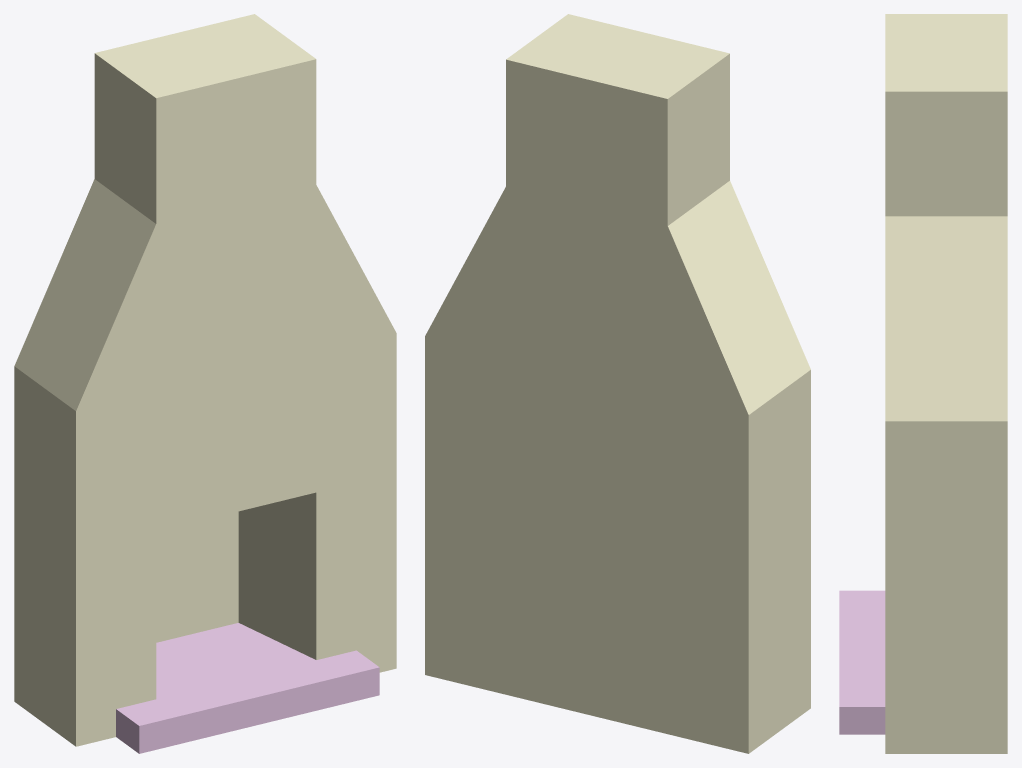
The model's file is Fireplace.glb.
3 views of the same model, side by side, from view 1: azimuth 30°, elevation 25°; view 2: azimuth 150°, elevation 25°; view 3: azimuth 270°, elevation 25° (orthographic).
Parts seen in each view (by area): view 1: Fireplace; view 2: Fireplace; view 3: Fireplace.
Part boxes in pixels (x1=…): Fireplace: x1=14, y1=14, x2=396, y2=753; Fireplace: x1=425, y1=14, x2=810, y2=753; Fireplace: x1=839, y1=14, x2=1007, y2=753.
Bounding box in the file's own units: 1.2 × 2.25 × 0.55.
